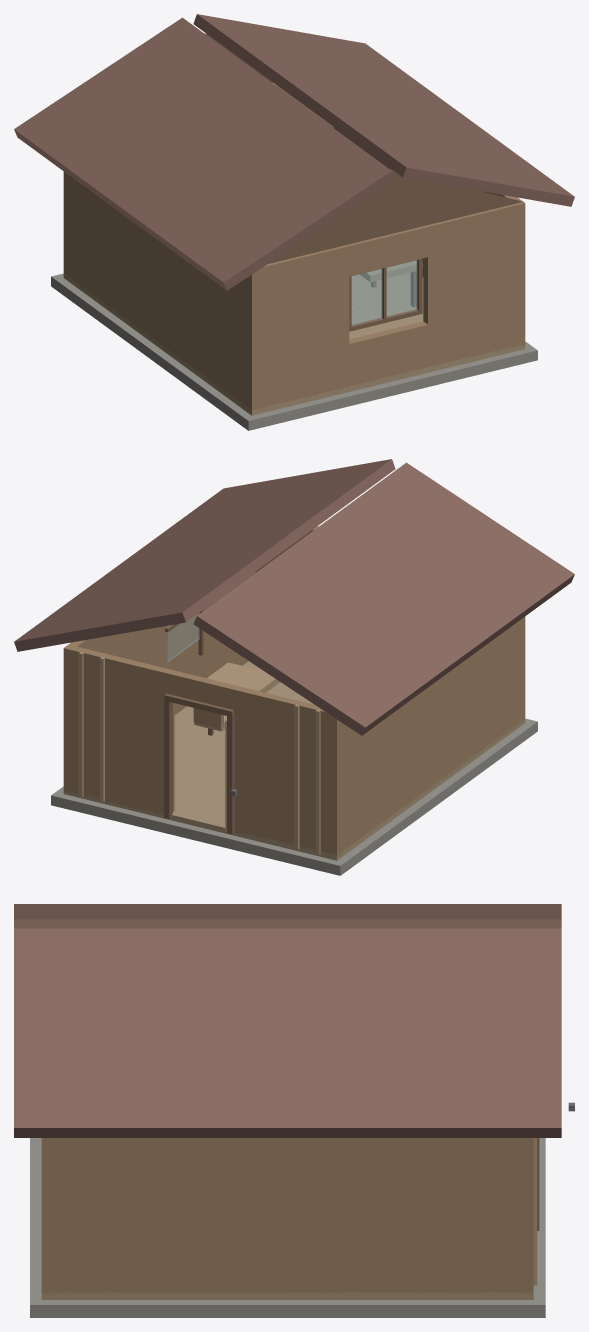
The model's file is cabana.glb.
3 renders of one model, top to bottom at view 1: azimuth 30°, elevation 25°; view 2: azimuth 150°, elevation 25°; view 3: azimuth 270°, elevation 25°, orthographic. The views are drawn at different scales.
Parts seen in each view (by area): view 1: Cuerpo, Vidrio; view 2: Cuerpo, Vidrio; view 3: Cuerpo.
Boxes of the visible parts, bbox=[...] form: Cuerpo: bbox=[14, 14, 574, 430]; Vidrio: bbox=[351, 260, 417, 325]; Cuerpo: bbox=[14, 459, 574, 875]; Vidrio: bbox=[166, 613, 199, 662]; Cuerpo: bbox=[14, 904, 574, 1317].
Size of the model in its own units: 6.68 by 4.19 by 7.07.
